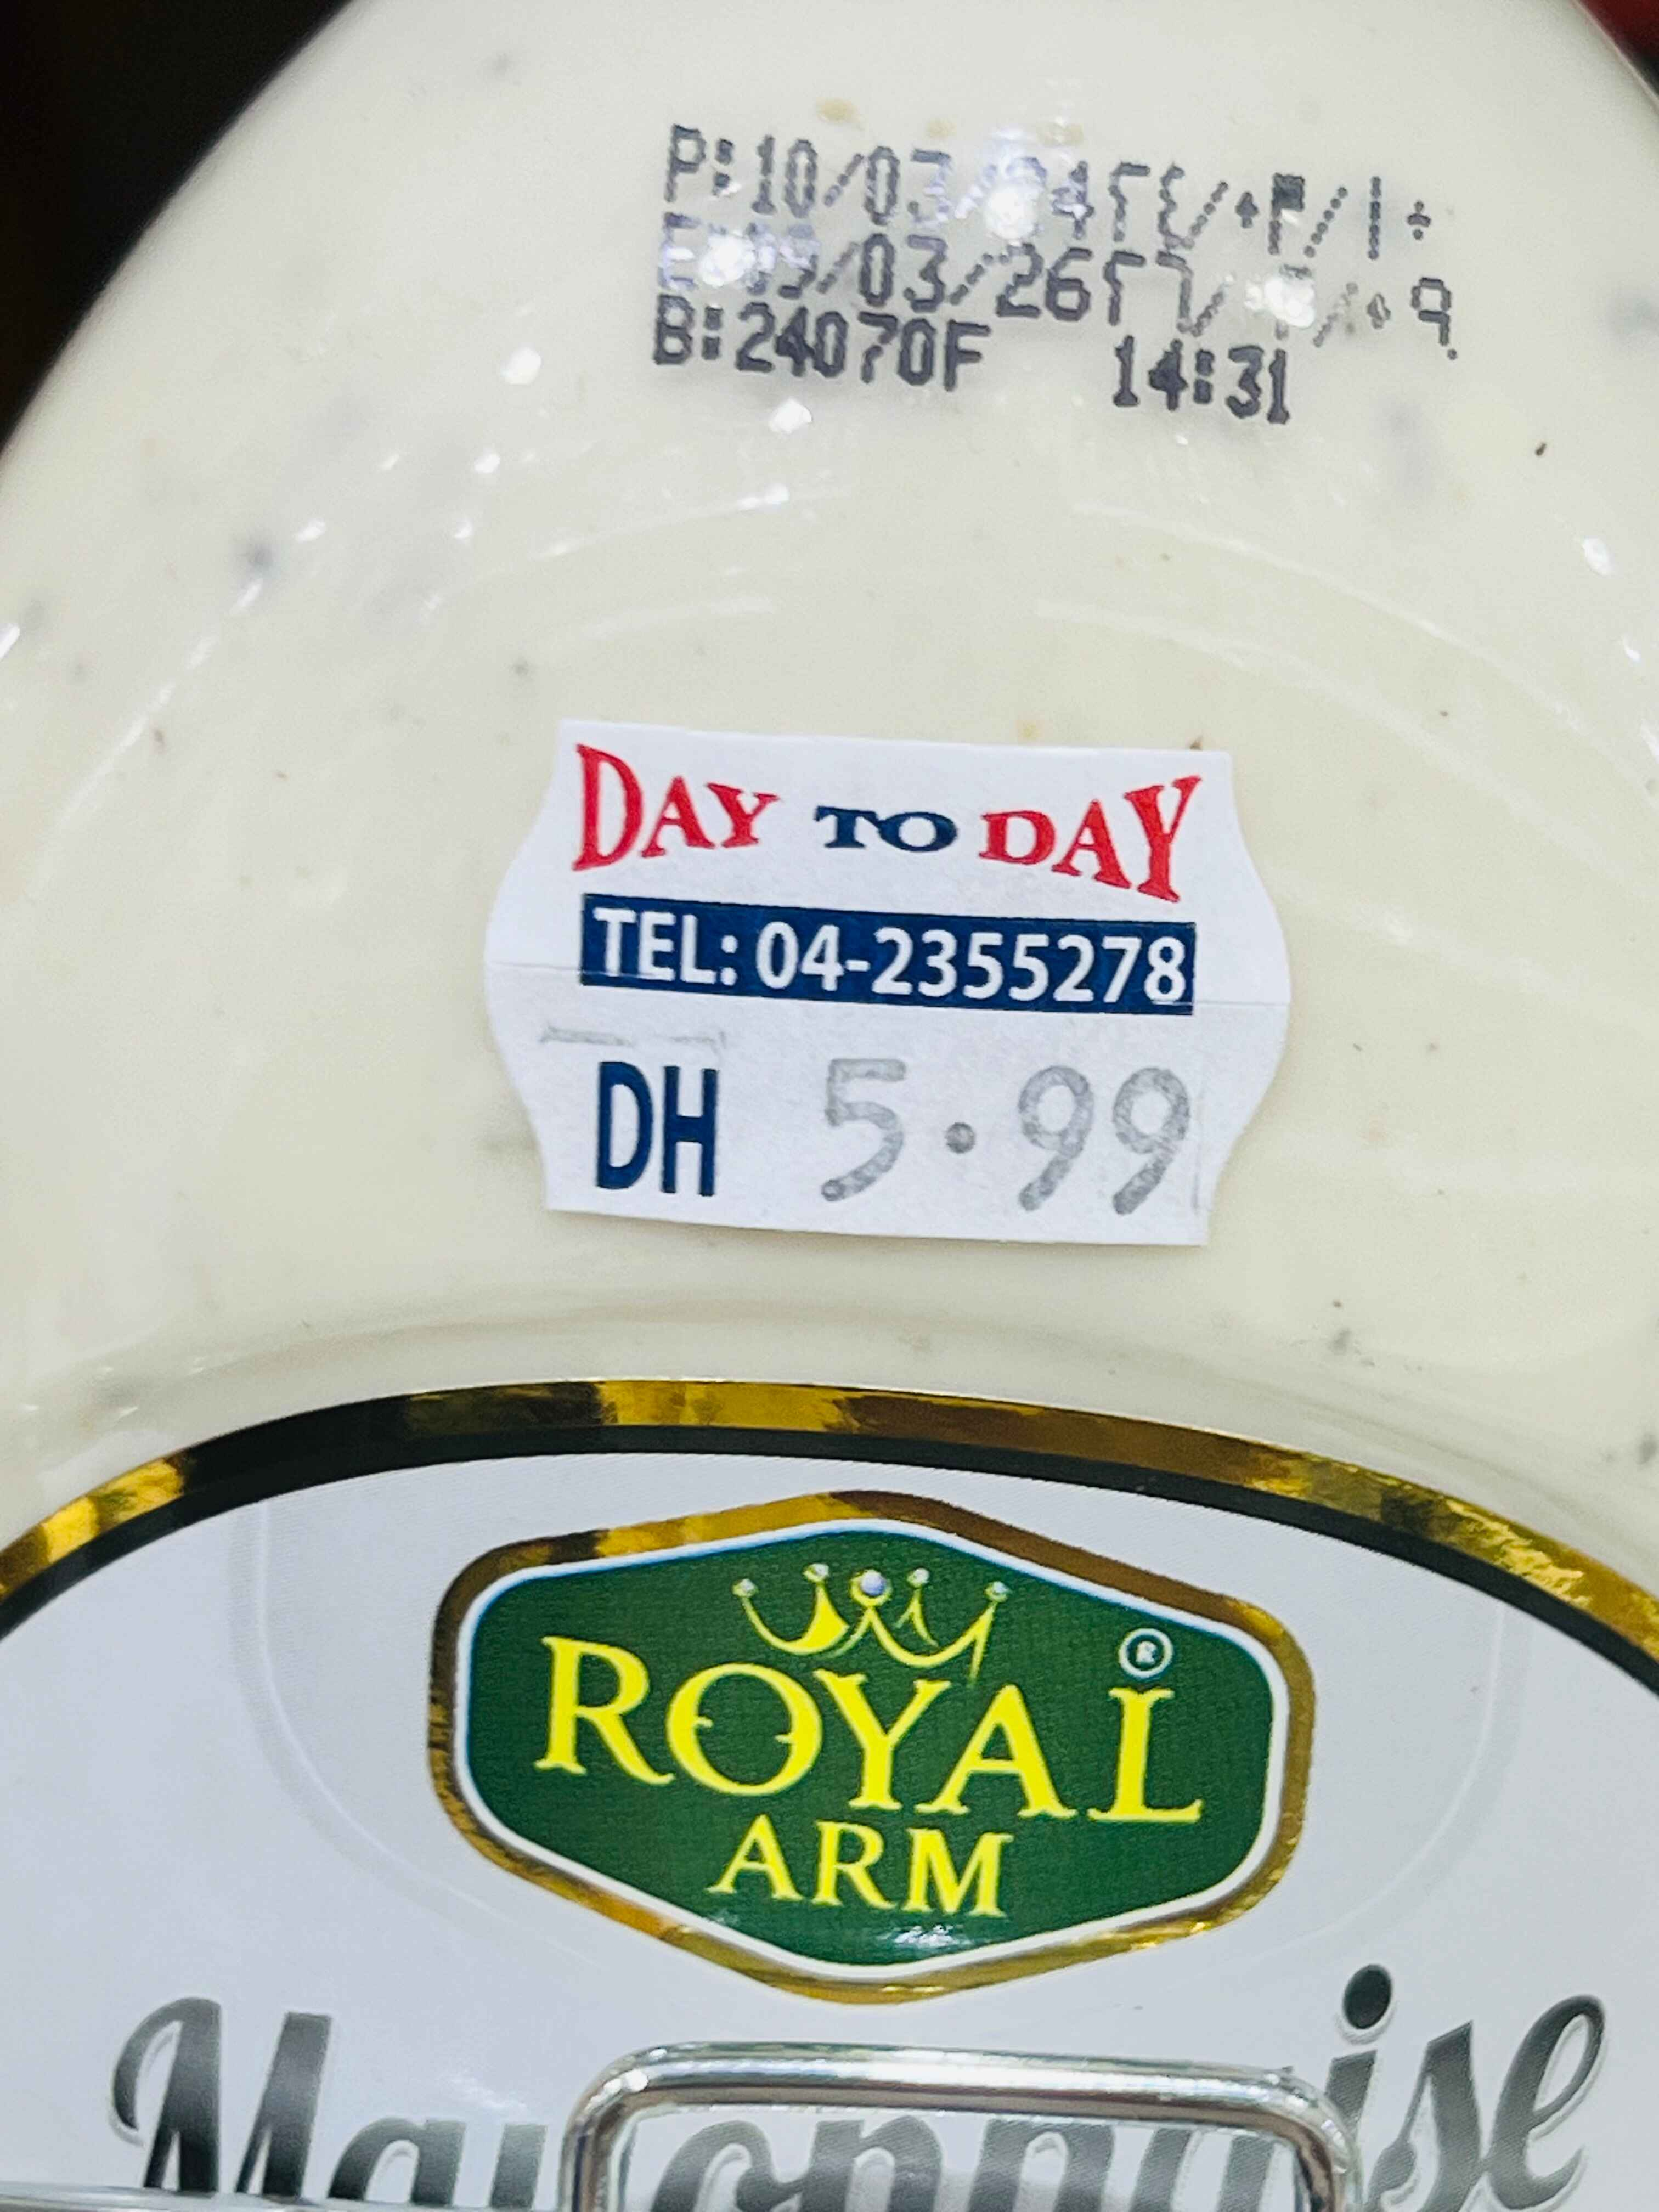PriceTagSmall: (498, 712, 1267, 1247)
